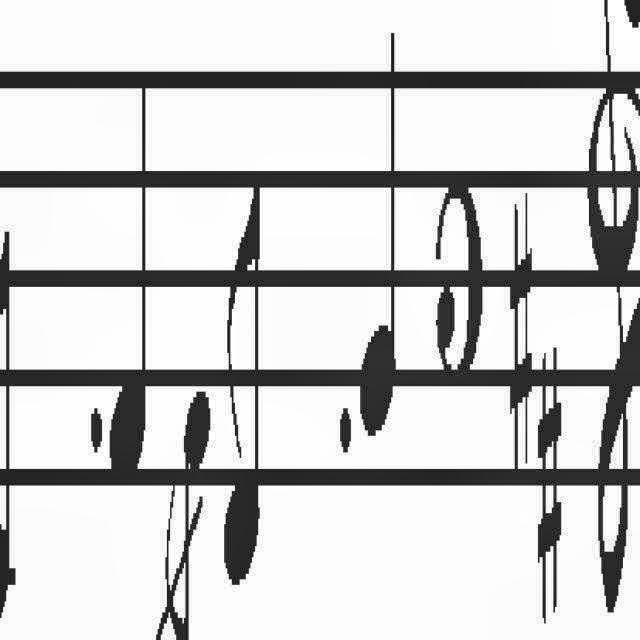Bass-clef: (584, 0, 640, 628)
Diez: (534, 338, 564, 628), (508, 180, 534, 478)
Eighth-note: (218, 174, 262, 602), (0, 220, 16, 640)
Quarter-note: (356, 19, 400, 445), (109, 76, 148, 487)
